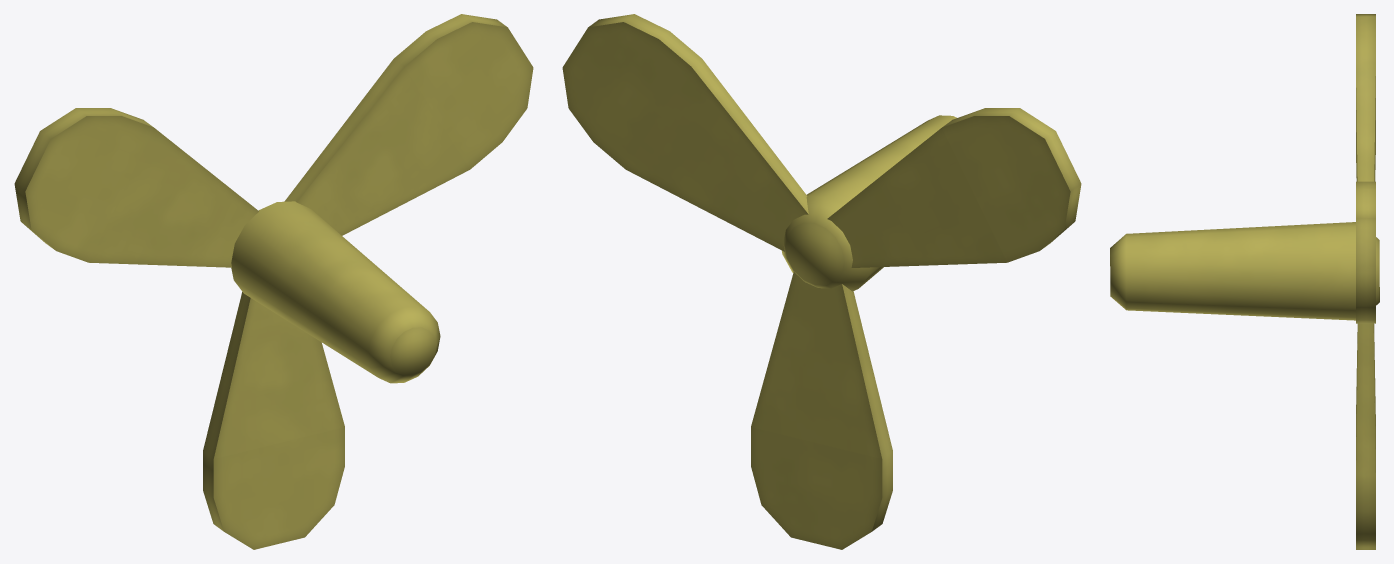
The model's file is cola botemovil.obj.
3 views of the same model, side by side, from view 1: azimuth 30°, elevation 25°; view 2: azimuth 150°, elevation 25°; view 3: azimuth 270°, elevation 25° (orthographic). The views are drawn at different scales.
Visible parts, largest first — view 1: Object; view 2: Object; view 3: Object.
Boxes of the visible parts, left/top/right/bottom form: Object: left=14, top=14, right=533, bottom=549; Object: left=562, top=14, right=1081, bottom=549; Object: left=1110, top=14, right=1379, bottom=549.
Bounding box in the file's own units: 3.83 × 3.42 × 1.92.
